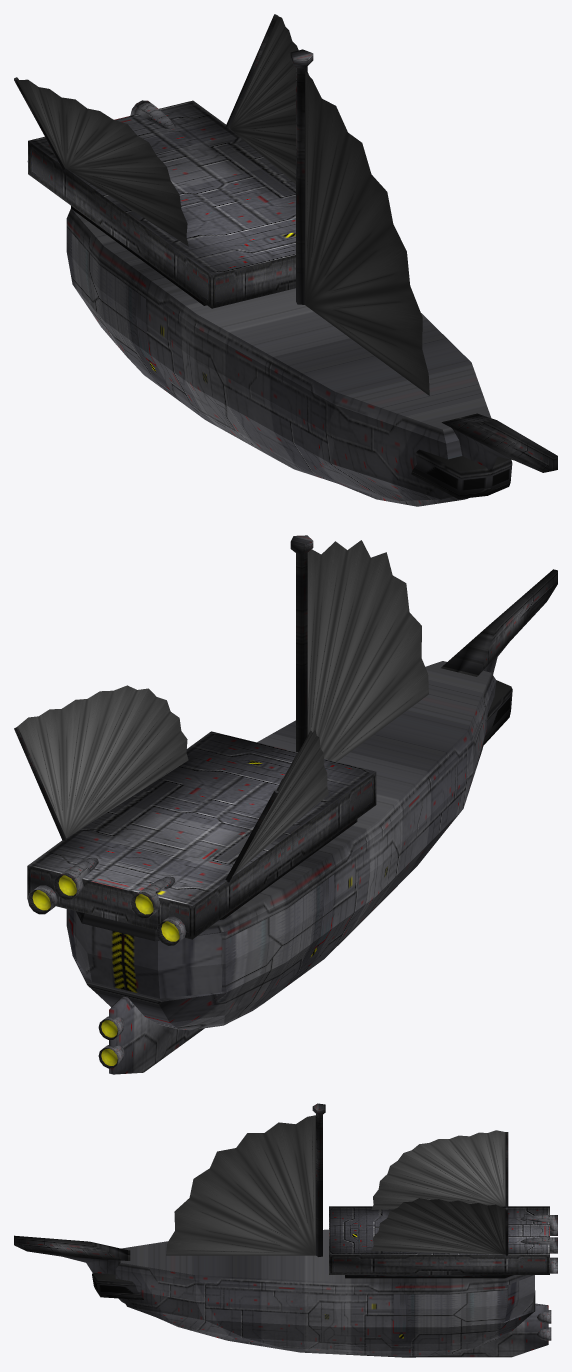
Rendered from hidalgo.obj.
3 views of the same model, one above another, from view 1: azimuth 30°, elevation 25°; view 2: azimuth 150°, elevation 25°; view 3: azimuth 270°, elevation 25° (orthographic). The views are drawn at different scales.
Size of the model in its own units: 137 by 206 by 406.
Materials: 2 (2 with a texture image).
